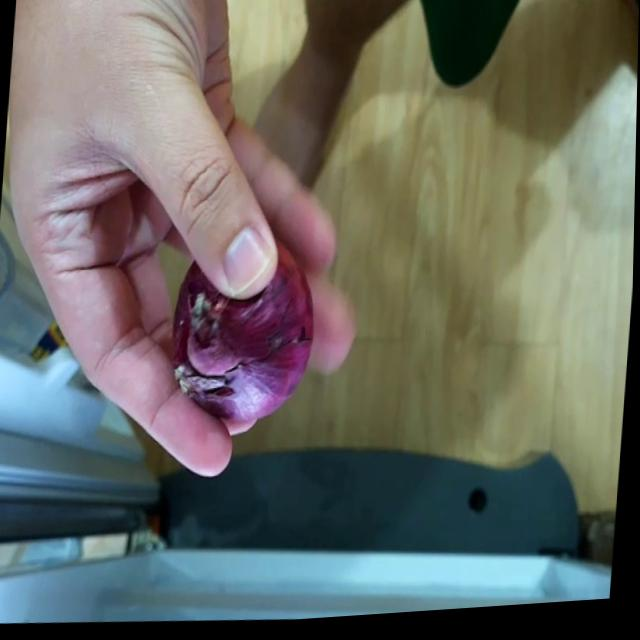onion: (163, 236, 319, 430)
